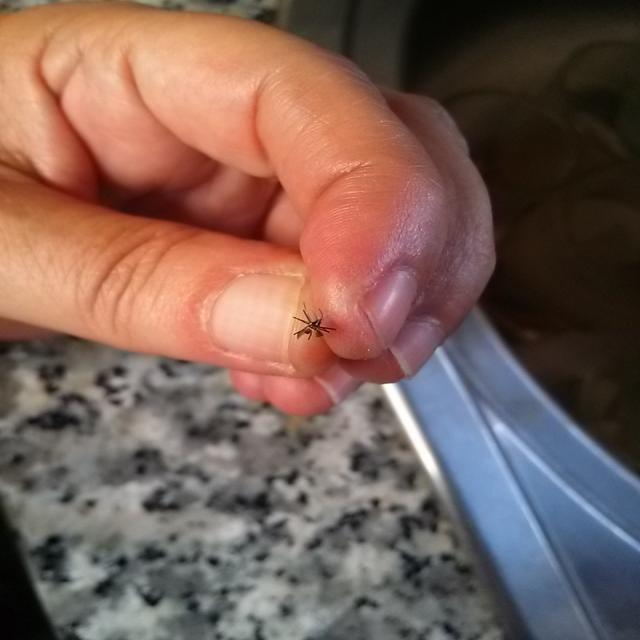albopictus: (288, 300, 344, 346)
